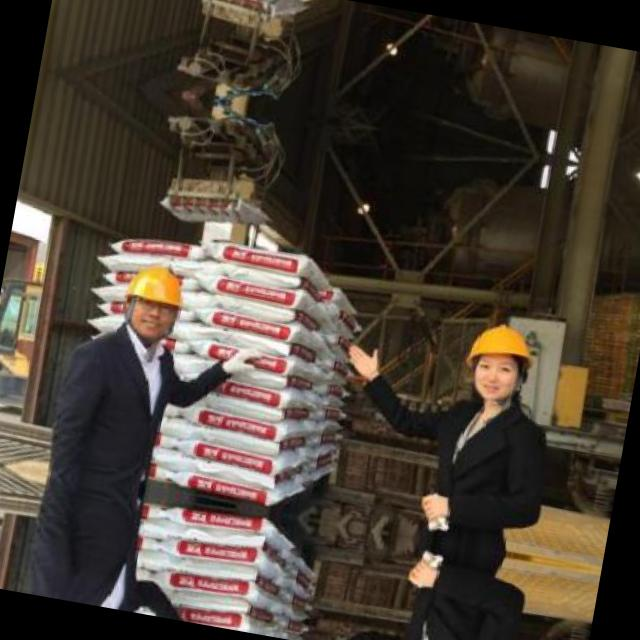helmet: (456, 312, 542, 406), (112, 251, 193, 345)
